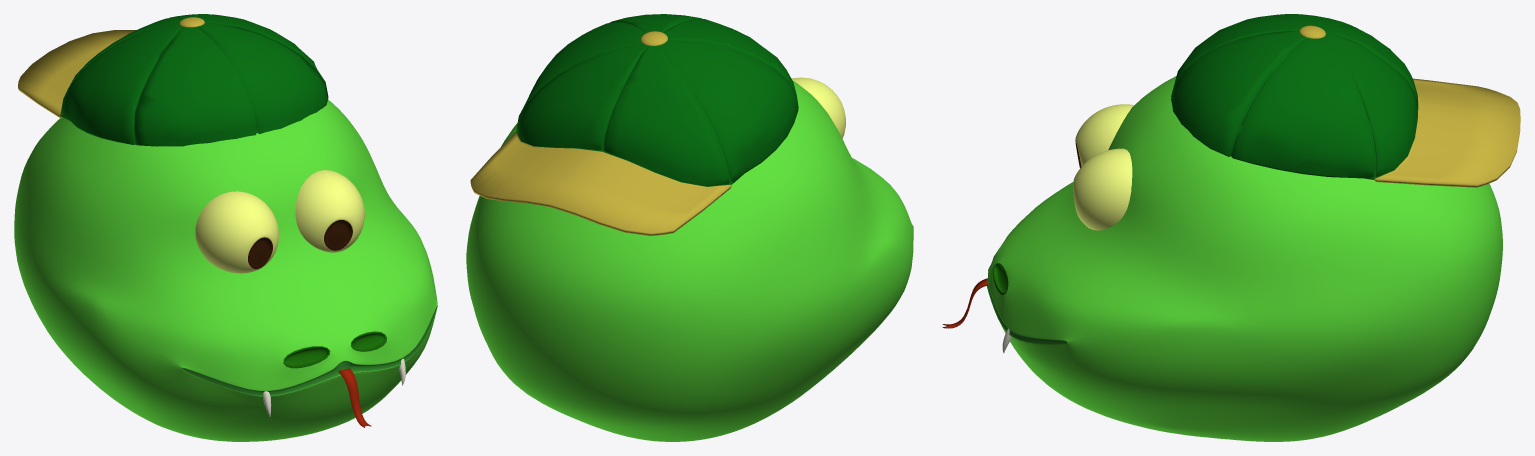
File: MrSnake_green.fbx
3 renders of one model, left to right at view 1: azimuth 30°, elevation 25°; view 2: azimuth 150°, elevation 25°; view 3: azimuth 270°, elevation 25°, orthographic. The views are drawn at different scales.
Parts seen in each view (by area): view 1: Mr.Snake_green.001, Cap.003, RightEye.010, RightEye.009, Tongue.006; view 2: Mr.Snake_green.001, Cap.003, RightEye.010; view 3: Mr.Snake_green.001, Cap.003, RightEye.009, RightEye.010.
Boxes of the visible parts, left/top/right/bottom form: Mr.Snake_green.001: left=14, top=99, right=437, bottom=441; Cap.003: left=18, top=14, right=328, bottom=146; RightEye.010: left=195, top=191, right=278, bottom=273; RightEye.009: left=295, top=170, right=364, bottom=252; Tongue.006: left=338, top=368, right=371, bottom=427; Mr.Snake_green.001: left=466, top=80, right=913, bottom=441; Cap.003: left=470, top=14, right=798, bottom=235; RightEye.010: left=791, top=77, right=845, bottom=138; Mr.Snake_green.001: left=987, top=76, right=1502, bottom=441; Cap.003: left=1171, top=14, right=1520, bottom=187; RightEye.009: left=1073, top=148, right=1132, bottom=230; RightEye.010: left=1075, top=104, right=1134, bottom=168.
Size of the model in its own units: 204 by 220 by 290.
